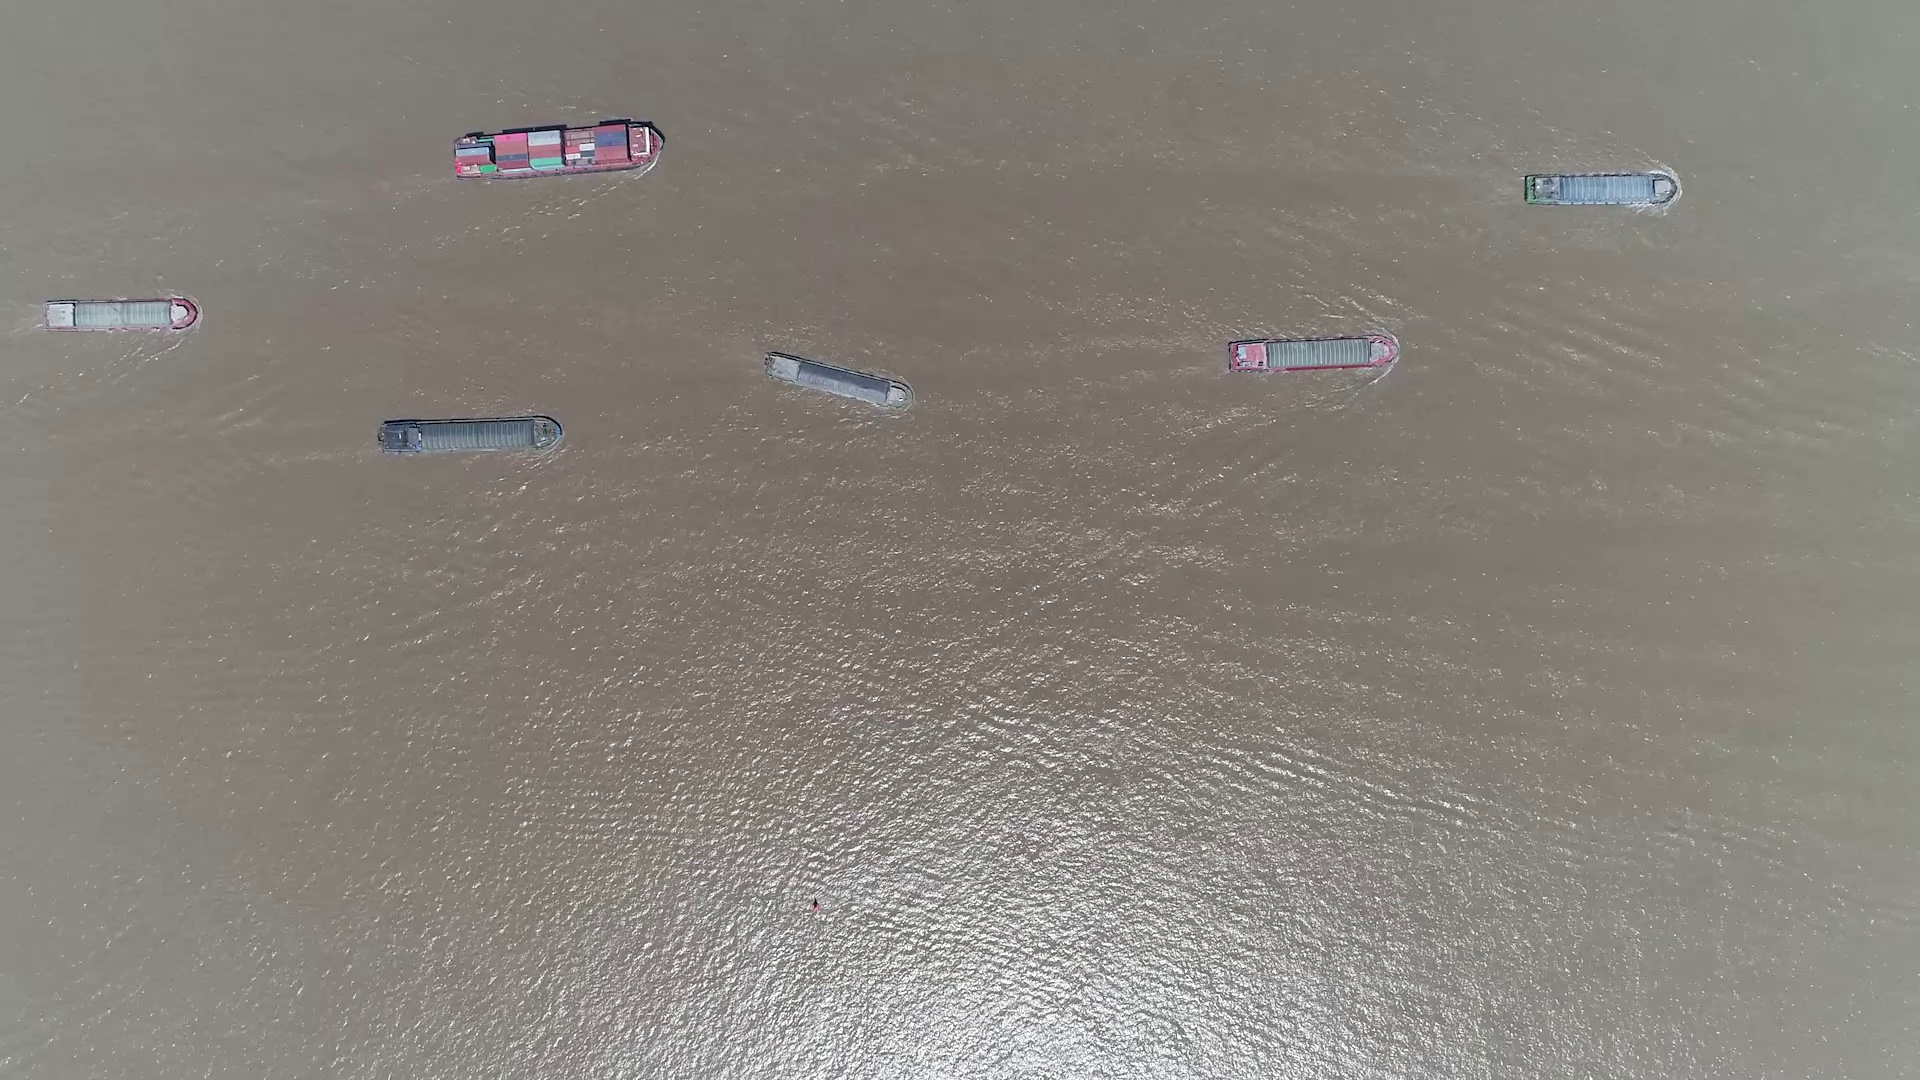ship: (452, 125, 659, 179), (764, 351, 911, 407), (377, 418, 560, 455), (1229, 335, 1398, 375), (1527, 174, 1672, 207), (40, 301, 194, 331)
